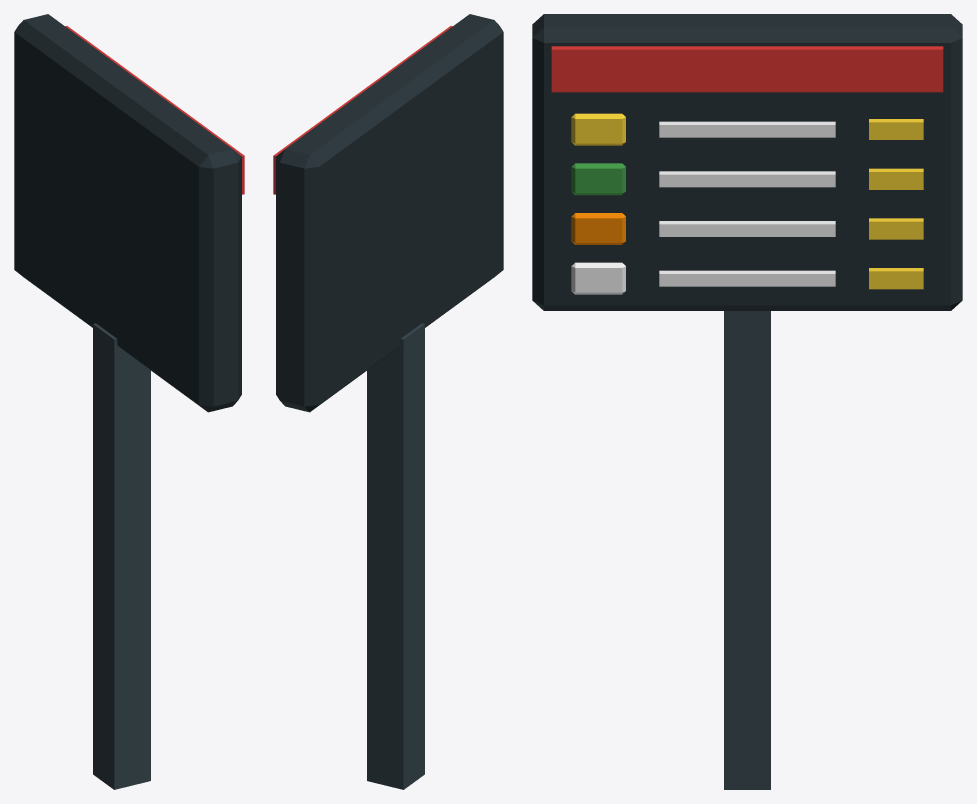
The model's file is Menu_Pano.fbx.
3 renders of one model, left to right at view 1: azimuth 30°, elevation 25°; view 2: azimuth 150°, elevation 25°; view 3: azimuth 270°, elevation 25°, orthographic. The views are drawn at different scales.
Parts seen in each view (by area): view 1: Menu_Pano; view 2: Menu_Pano; view 3: Menu_Pano.
Part boxes in pixels (left/top/right/bottom): Menu_Pano: left=14, top=14, right=244, bottom=789; Menu_Pano: left=273, top=14, right=503, bottom=789; Menu_Pano: left=532, top=14, right=962, bottom=789.
Bounding box in the file's own units: 17 × 215 × 110.
